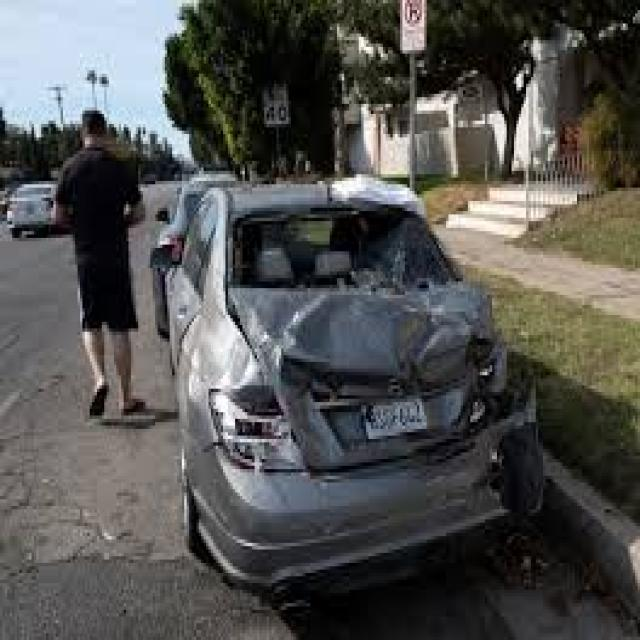Severe Damage: (201, 228, 544, 589)
